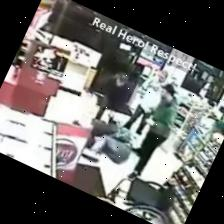person: (129, 84, 177, 179), (125, 71, 168, 135)
